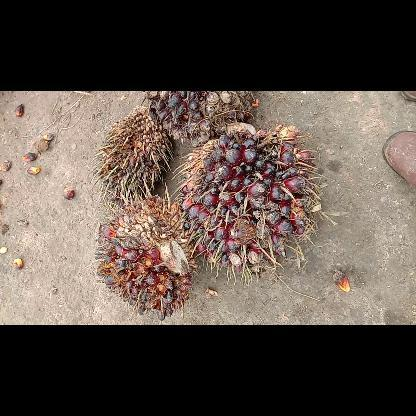Kurang masak: (182, 122, 314, 270), (148, 90, 254, 140)
TBS abnormal: (102, 106, 168, 209)
TBS masak: (96, 196, 192, 318)
